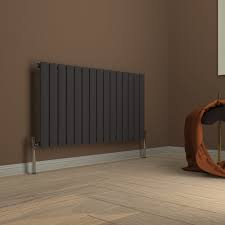Radiator: (30, 58, 147, 155)
